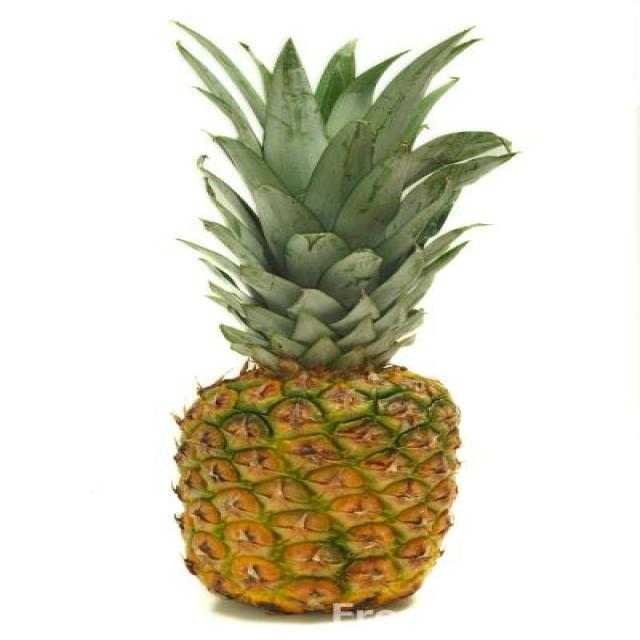pineapple: (155, 314, 489, 622)
